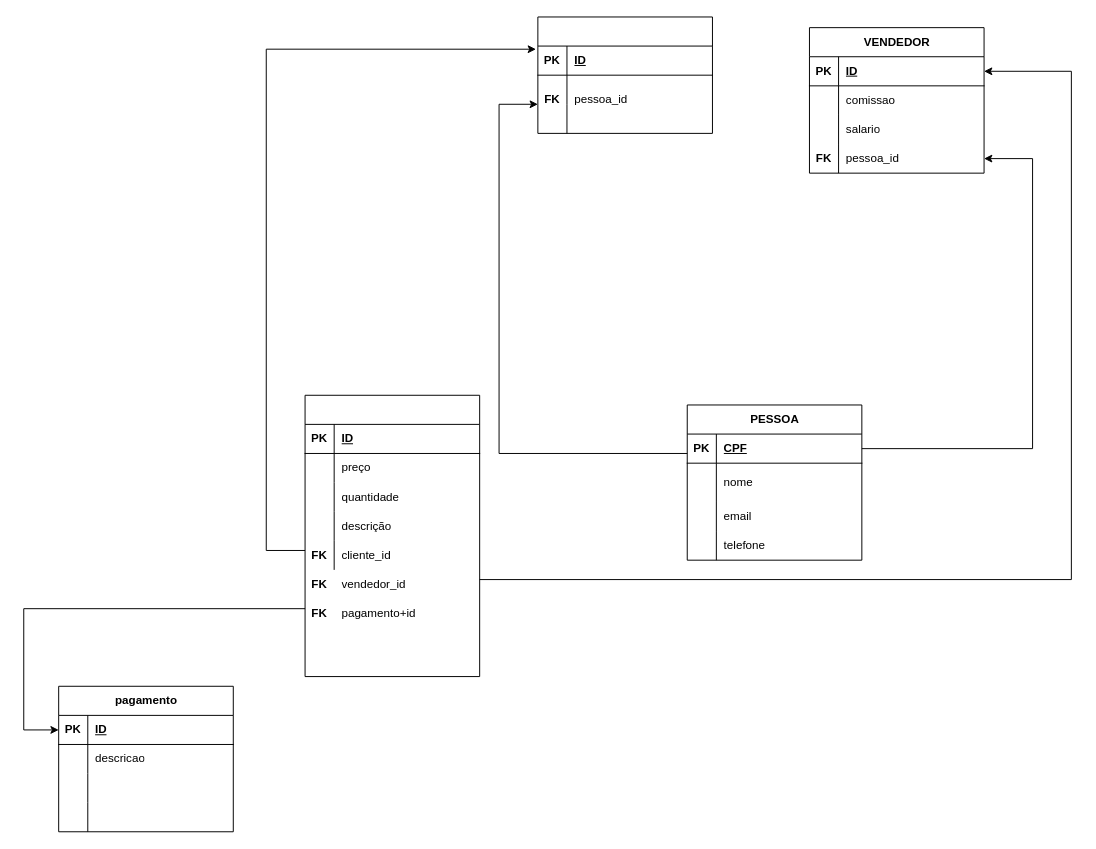
Image size: 1096x849. Some labels were removed from this diagram. Each missing label, with the box of its shape:
CLIENTE: (537, 16, 712, 133)
PEDIDO: (304, 394, 480, 677)
